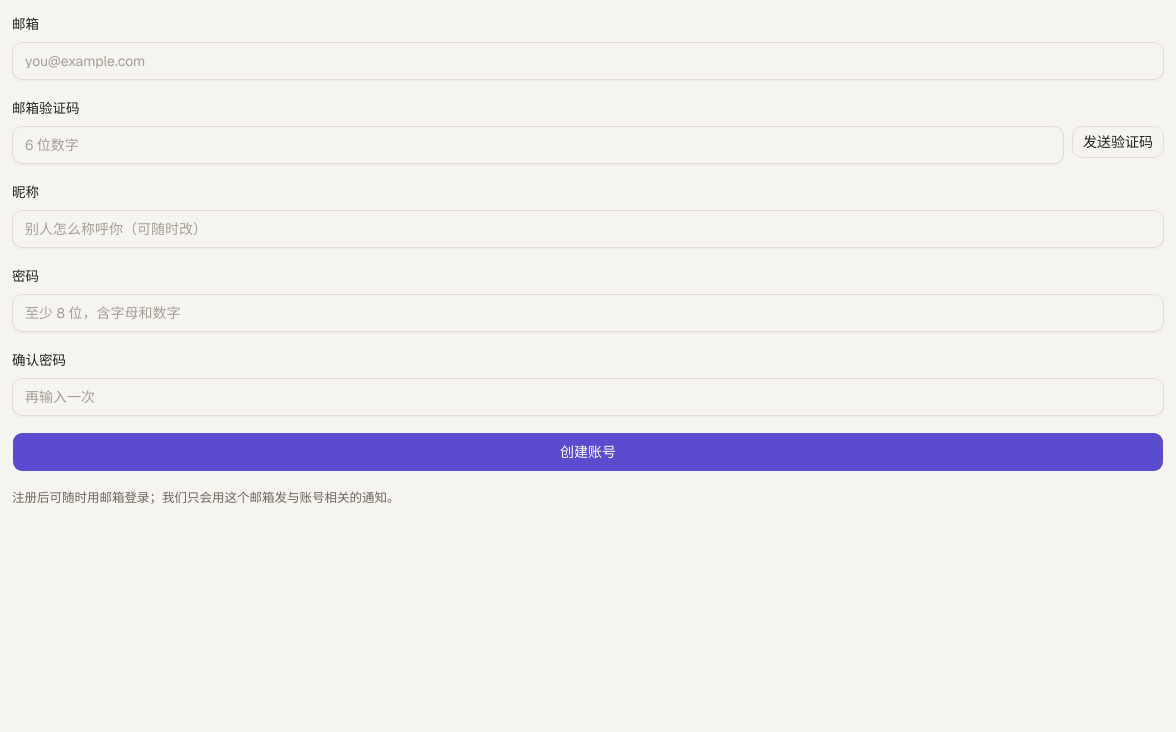
it: 注册表单 › 字段错误来自服务端校验
Type "ming@example.com" into the field labelled "邮箱" at (588, 61), box [12,42,1164,80]
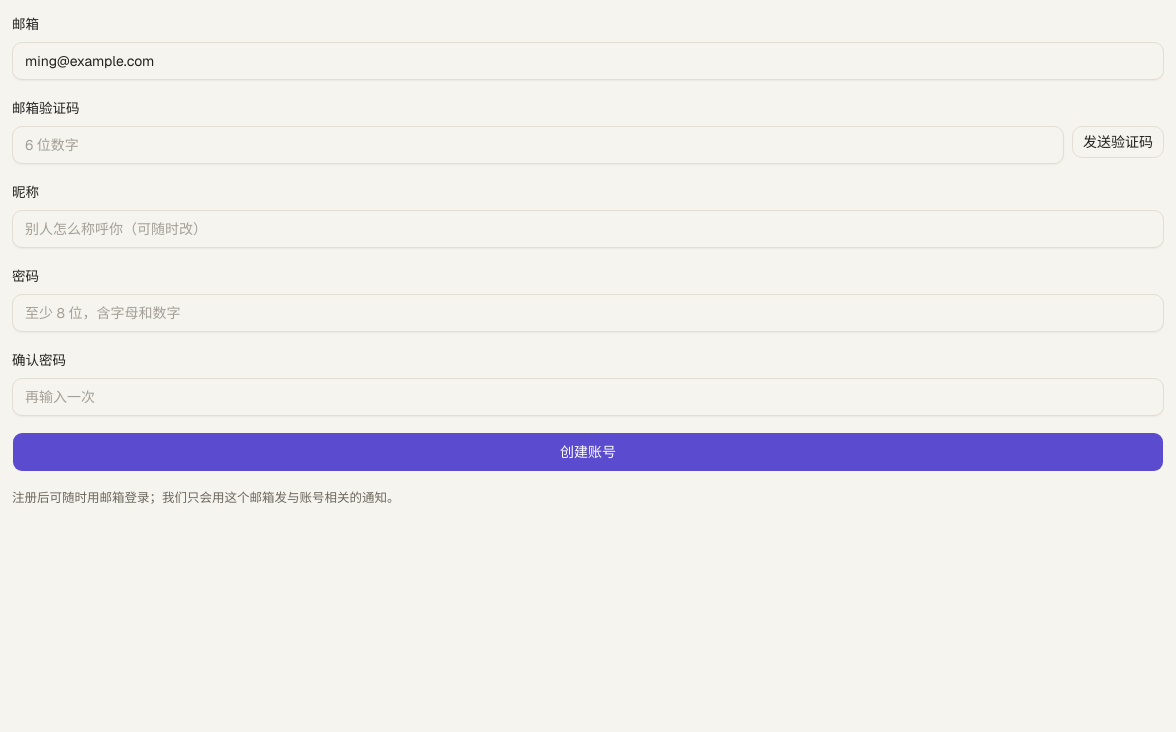
Type "明" into the field labelled "昵称" at (588, 229), box [12,210,1164,248]
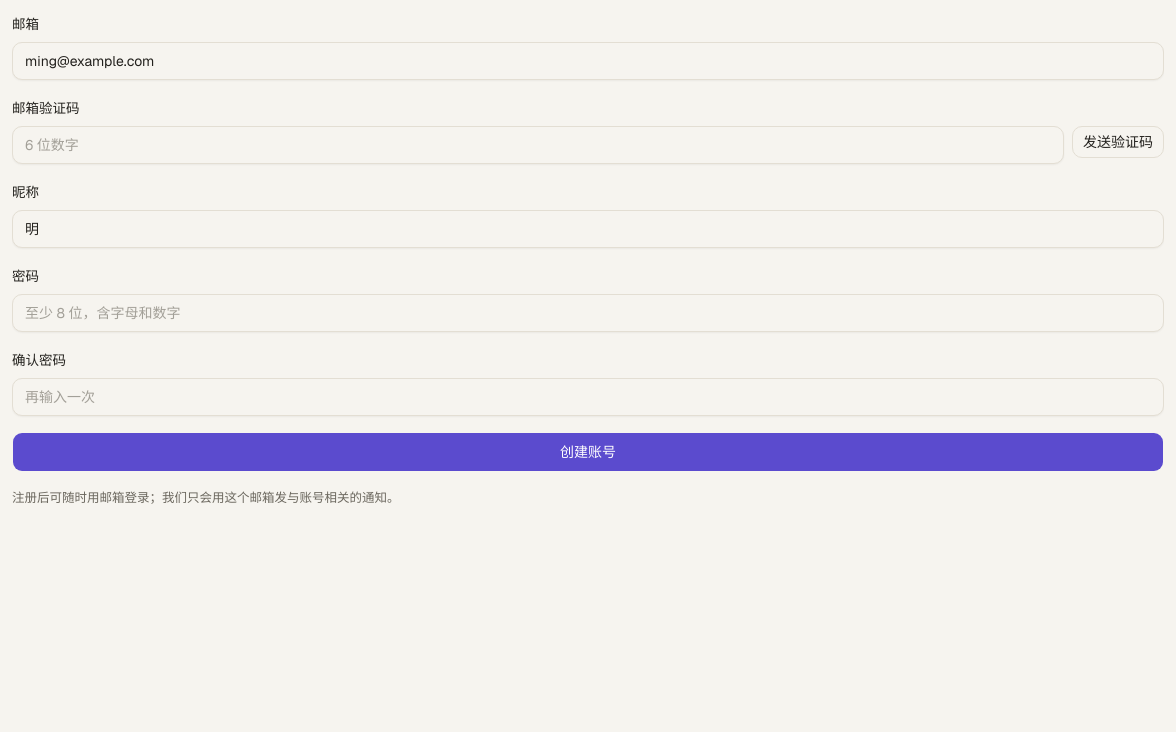
Type "zhuojian2026" into the password field labelled "密码" at (588, 313), box [12,294,1164,332]
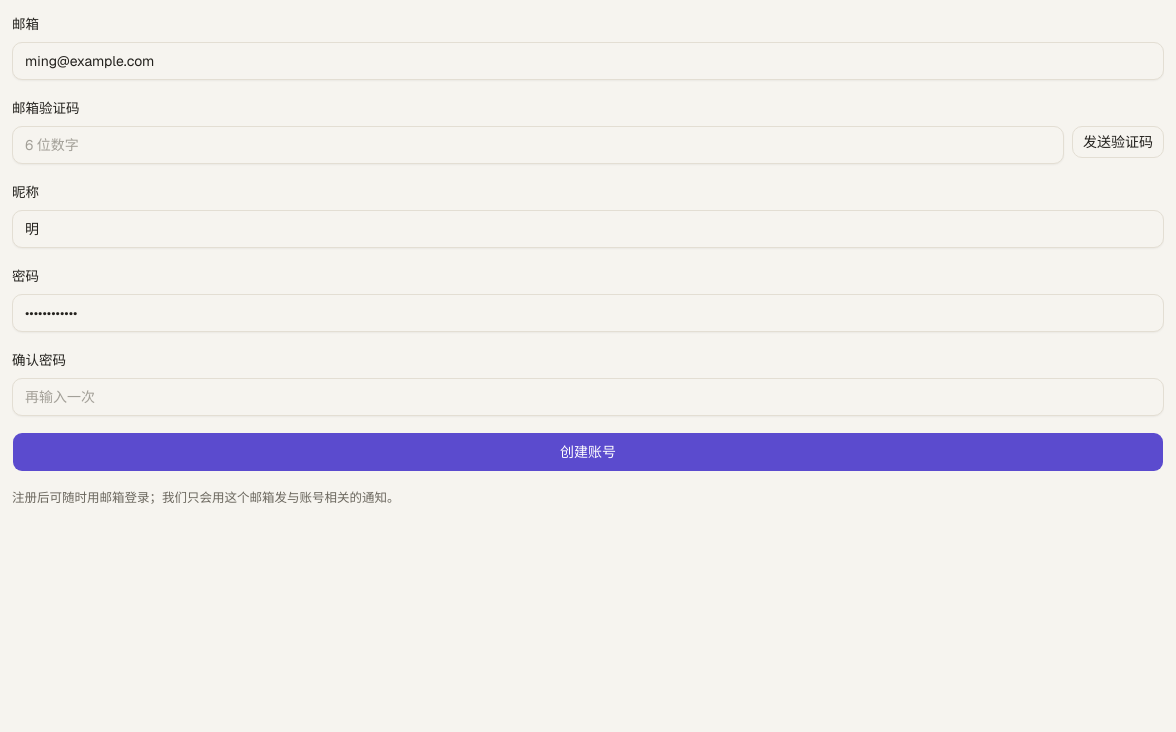
Type "zhuojian2026" into the password field labelled "确认密码" at (588, 397), box [12,378,1164,416]
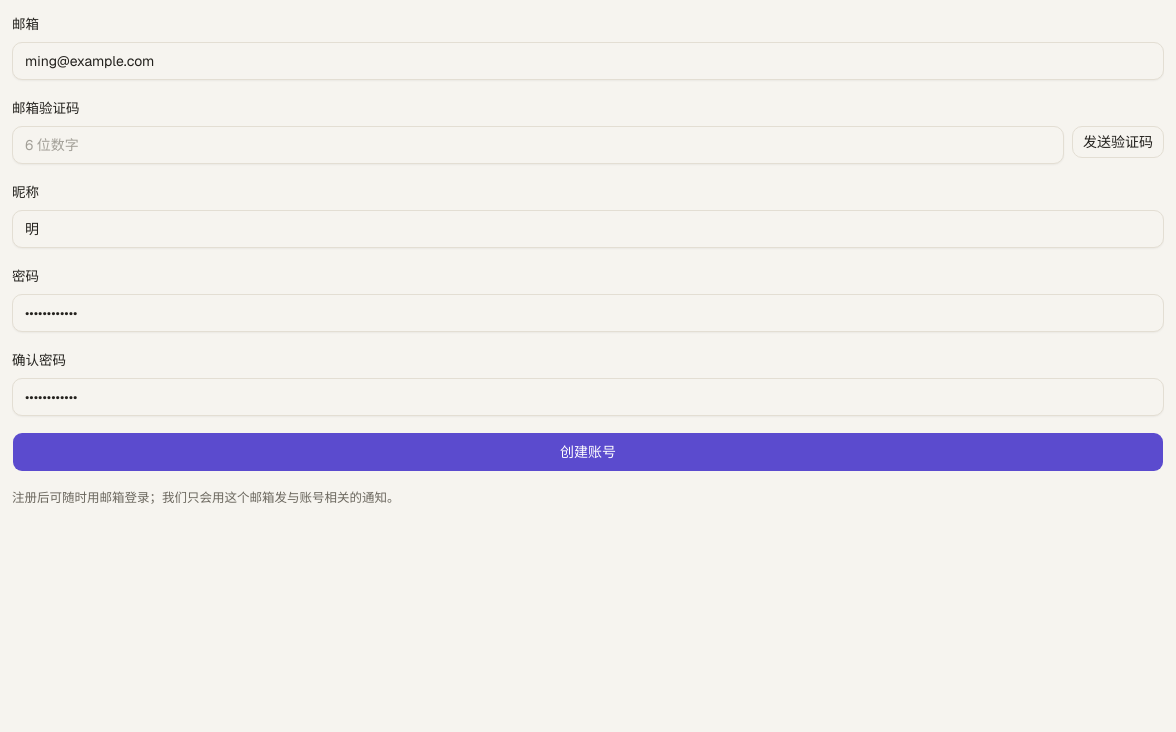
Click the button "创建账号" at (588, 452), box [12,432,1164,472]
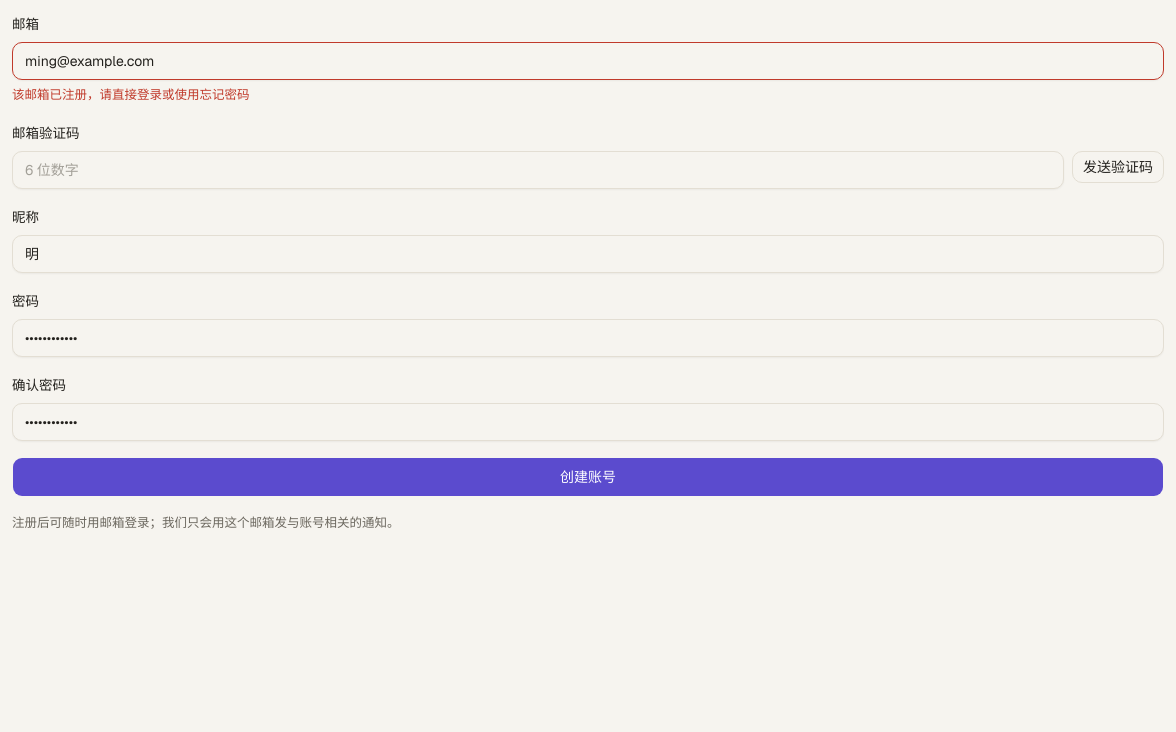
Check: the text "该邮箱已注册，请直接登录或使用忘记密码" is shown, box [12,86,250,103]
